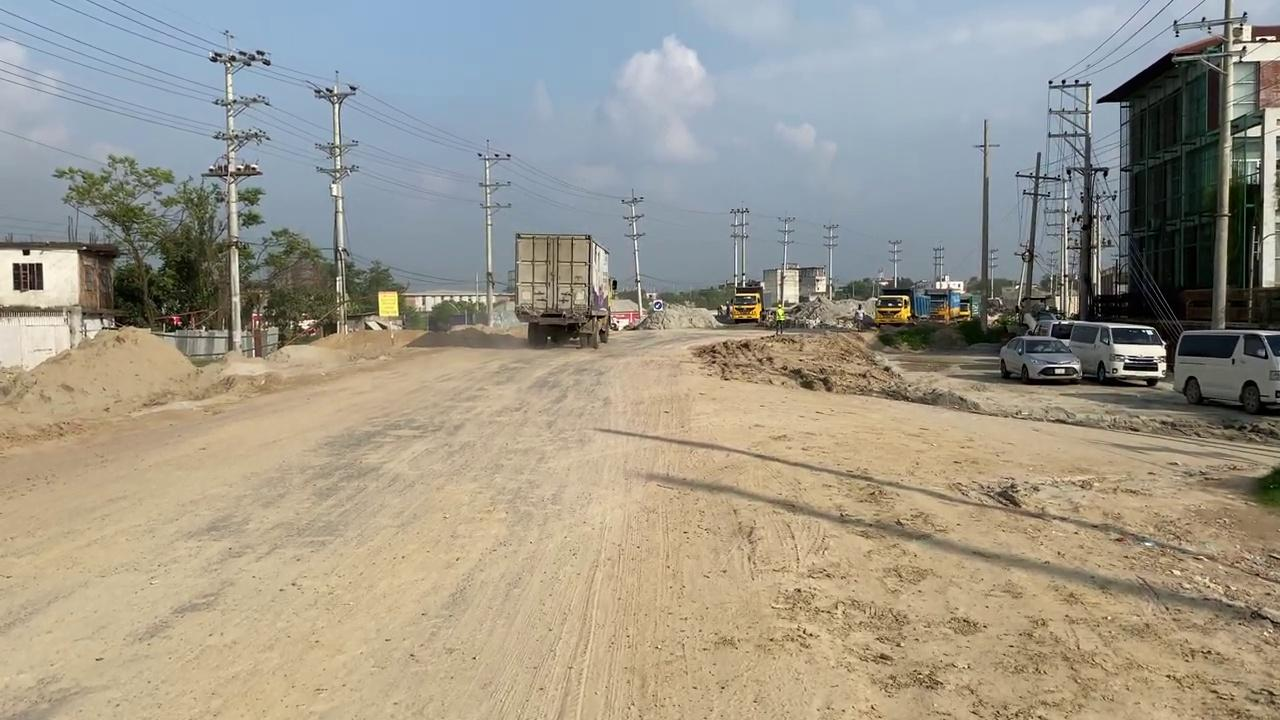Car: (998, 334, 1082, 384)
Light-pole: (202, 46, 271, 352)
Muddy road: (705, 322, 956, 408)
Obstacle: (512, 231, 611, 348)
Pole: (1209, 0, 1234, 329), (476, 141, 511, 325), (973, 118, 999, 331), (620, 188, 645, 318)
Tree: (716, 202, 766, 323), (871, 277, 974, 328), (717, 278, 765, 324), (609, 290, 664, 330), (1016, 295, 1061, 335), (926, 288, 972, 323), (872, 294, 915, 327), (609, 297, 641, 331), (727, 292, 762, 322), (644, 291, 663, 312)
